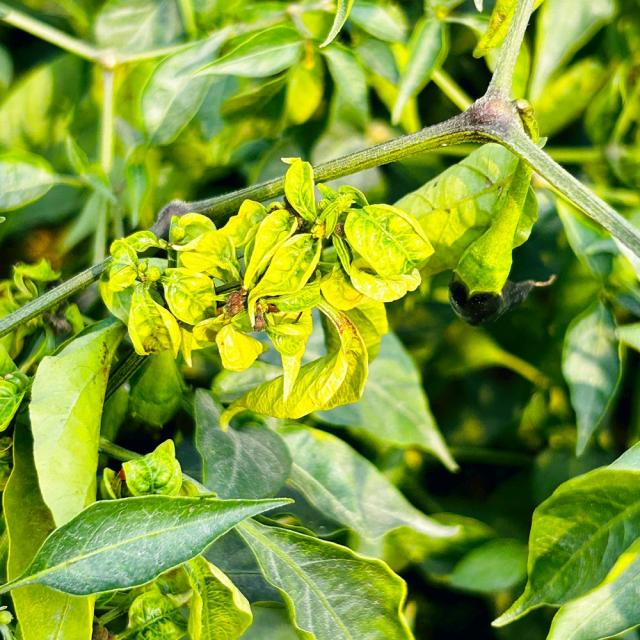Chilli_Leaf_Curl: (1, 1, 638, 638), (99, 154, 435, 430), (1, 438, 414, 639), (1, 492, 295, 598), (489, 440, 638, 638), (390, 138, 541, 323)
